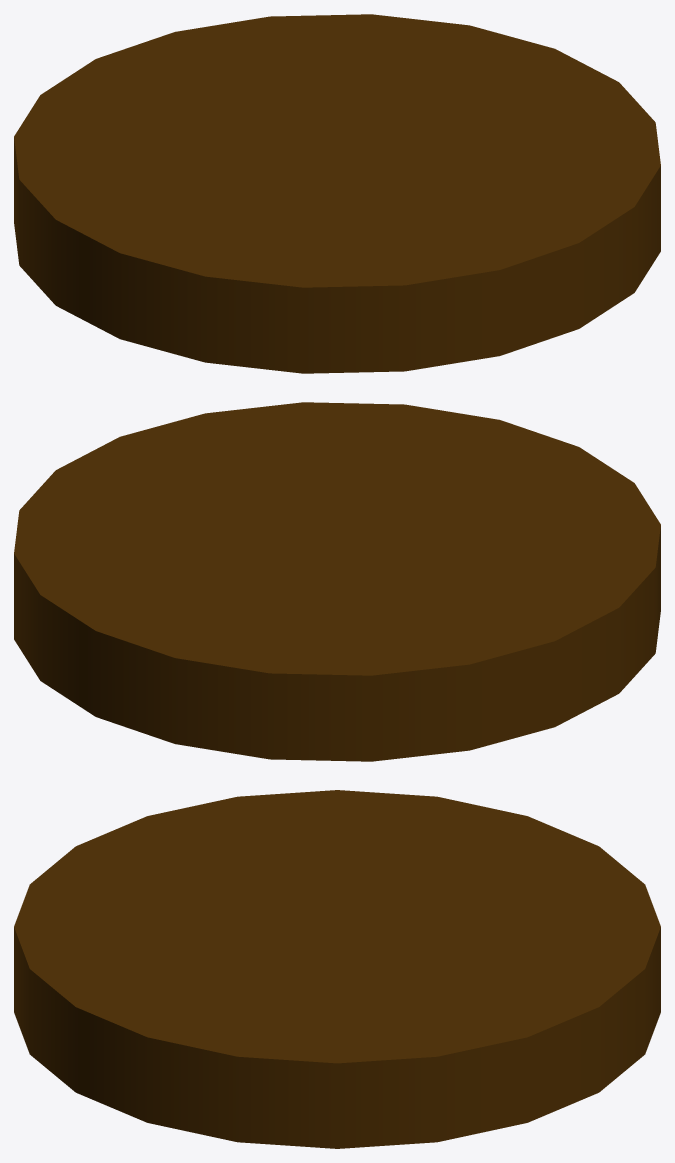
File: Cooked Burger.fbx
3 views of the same model, one above another, from view 1: azimuth 30°, elevation 25°; view 2: azimuth 150°, elevation 25°; view 3: azimuth 270°, elevation 25° (orthographic).
Parts seen in each view (by area): view 1: Cooked_Burger; view 2: Cooked_Burger; view 3: Cooked_Burger.
Part boxes in pixels (<box>): Cooked_Burger: <box>14,14,660,373</box>; Cooked_Burger: <box>14,402,660,761</box>; Cooked_Burger: <box>14,790,660,1148</box>.
Size of the model in its own units: 37.1 by 5.41 by 37.1.
